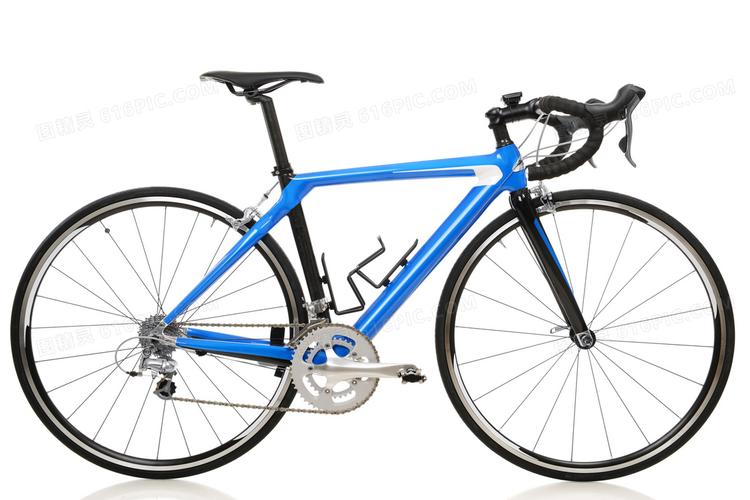单车: (5, 28, 750, 484)
